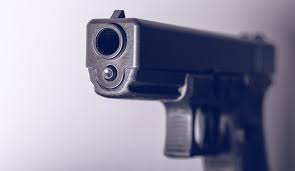gun: (83, 7, 276, 171)
